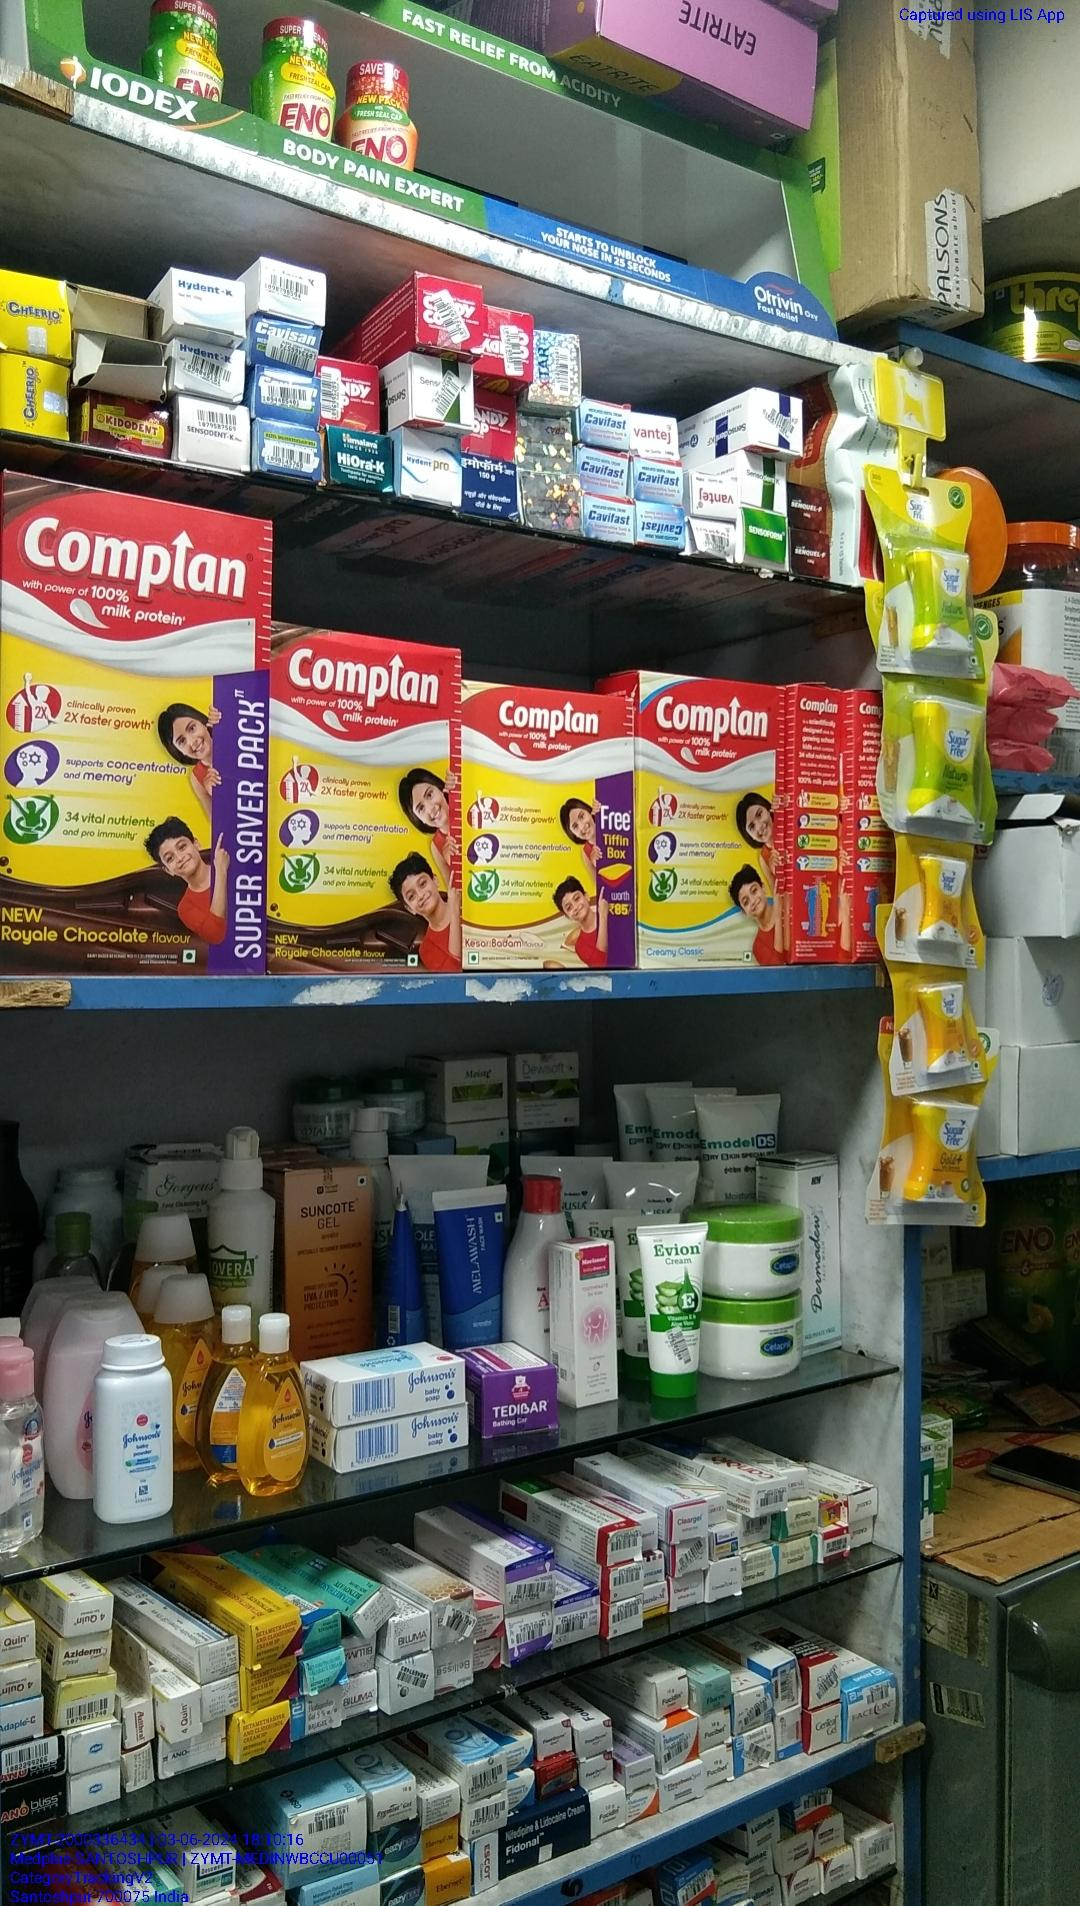COMPLAN_CHOCOLATE_1_KG_PACK: (0, 465, 266, 975)
COMPLAN_CHOCOLATE_500_GMS_PACK: (274, 626, 459, 978)
COMPLAN_CREAMY_CLASSIC_500_G_PACK: (640, 669, 783, 966)
COMPLAN_KESAR_BADAM_500_GMS_PACK: (466, 683, 634, 970)
